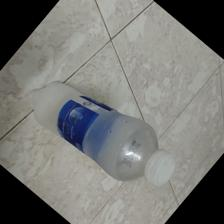Aquafina: (28, 80, 173, 187)
